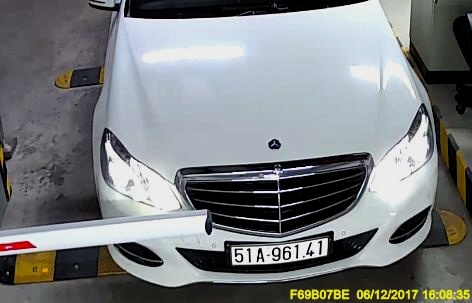plate: (226, 234, 332, 269)
